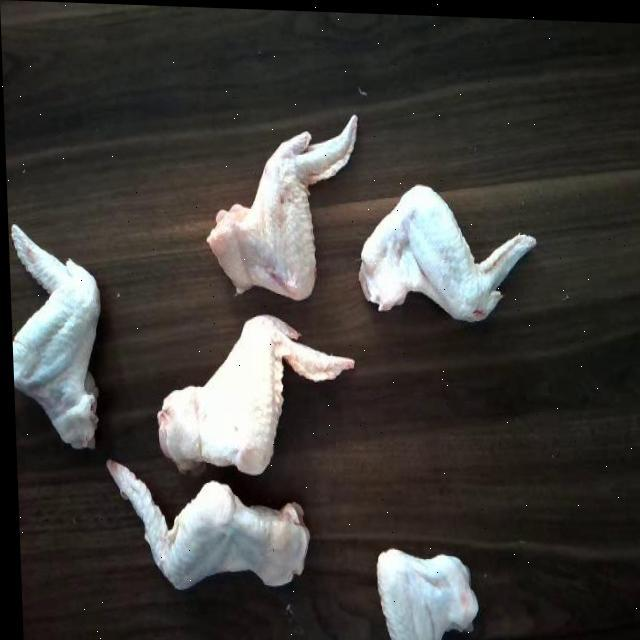wing: (139, 304, 350, 477), (100, 447, 312, 590), (205, 104, 358, 302), (359, 181, 536, 325), (6, 217, 100, 470), (371, 531, 472, 640)
